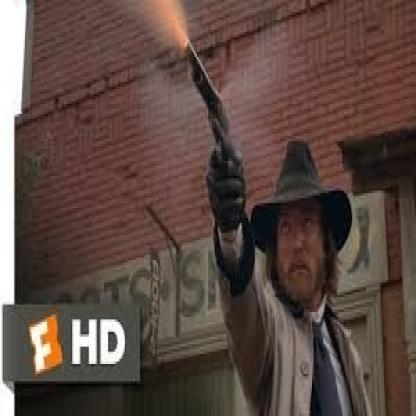Pistol: (167, 32, 246, 180)
